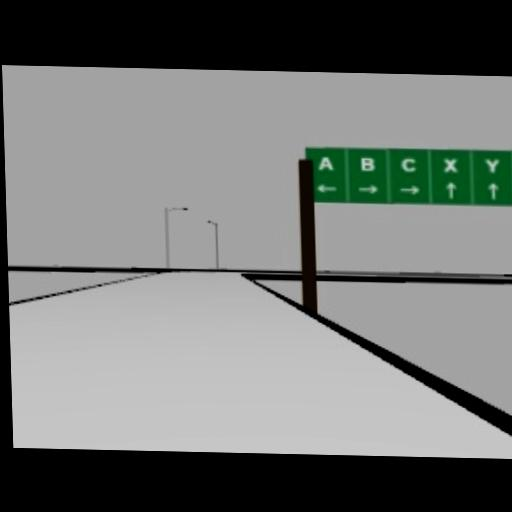A: (316, 155, 333, 169)
B: (359, 156, 376, 170)
C: (399, 155, 416, 171)
Left: (315, 182, 336, 192)
Right: (355, 183, 378, 193), (399, 183, 420, 193)
Straight: (444, 180, 457, 198), (486, 181, 499, 198)
X: (443, 156, 458, 172)
Y: (483, 157, 500, 173)
